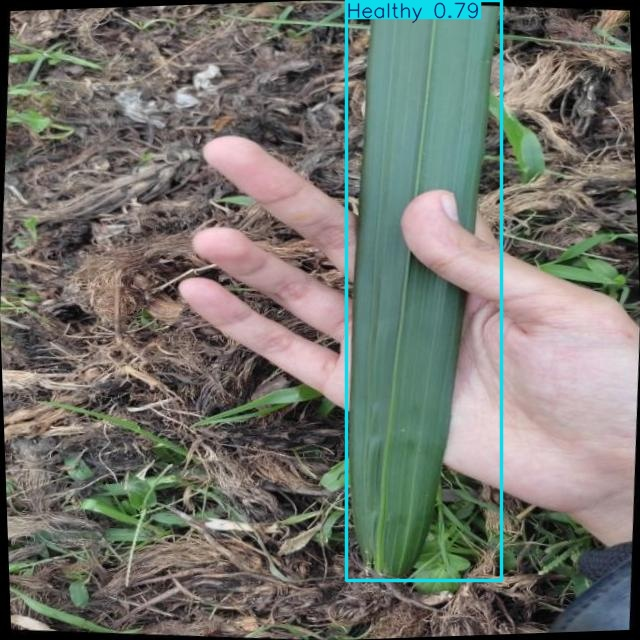Healthy: (346, 1, 501, 581)
